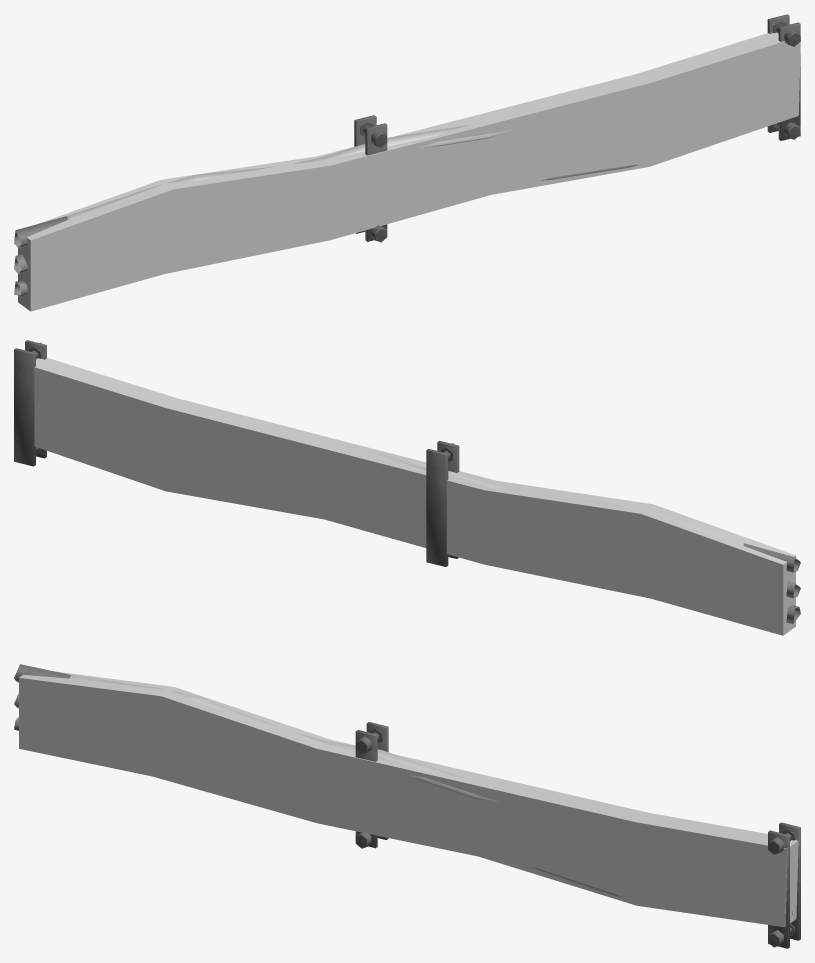
File: SFM_ElectricCable_Horizontal.FBX
The picture shows the model from 3 angles, top to bottom: view 1: azimuth 30°, elevation 25°; view 2: azimuth 150°, elevation 25°; view 3: azimuth 330°, elevation 25°; orthographic projection.
Visible parts, largest first — view 1: SFM_ElectricCable_Horizontal_Colider, SFM_ElectricCable_Horizontal_LOD0; view 2: SFM_ElectricCable_Horizontal_Colider, SFM_ElectricCable_Horizontal_LOD0; view 3: SFM_ElectricCable_Horizontal_Colider, SFM_ElectricCable_Horizontal_LOD0.
Boxes of the visible parts, bbox=[...] form: SFM_ElectricCable_Horizontal_Colider: bbox=[18, 32, 800, 311]; SFM_ElectricCable_Horizontal_LOD0: bbox=[14, 14, 800, 295]; SFM_ElectricCable_Horizontal_Colider: bbox=[34, 358, 795, 635]; SFM_ElectricCable_Horizontal_LOD0: bbox=[14, 340, 800, 623]; SFM_ElectricCable_Horizontal_Colider: bbox=[19, 671, 798, 927]; SFM_ElectricCable_Horizontal_LOD0: bbox=[14, 664, 800, 948].
Size of what is drawn, in the model's own units: 100 by 13.88 by 3.89.
